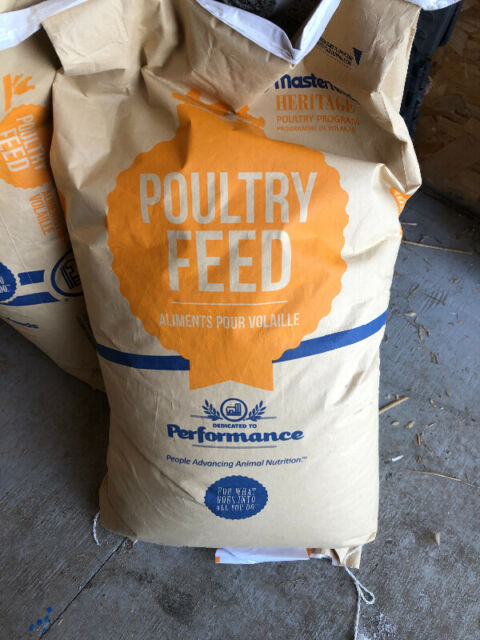feed_bag: (37, 3, 431, 563)
